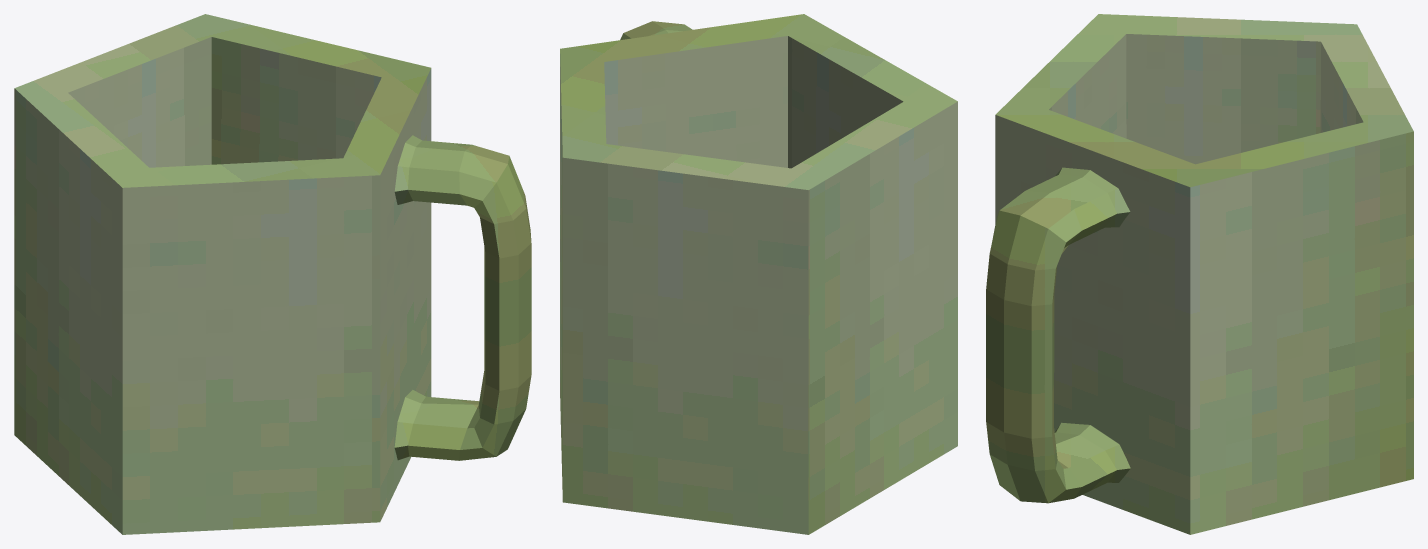
The model's file is mug_alt2.obj.
The picture shows the model from 3 angles, left to right: view 1: azimuth 30°, elevation 25°; view 2: azimuth 150°, elevation 25°; view 3: azimuth 270°, elevation 25°; orthographic projection.
Visible parts, largest first — view 1: mug_alt2; view 2: mug_alt2; view 3: mug_alt2.
Boxes of the visible parts, left/top/right/bottom form: mug_alt2: left=14, top=14, right=531, bottom=534; mug_alt2: left=560, top=14, right=957, bottom=534; mug_alt2: left=986, top=14, right=1413, bottom=534.
Bounding box in the file's own units: 0.139 × 0.123 × 0.1372.
